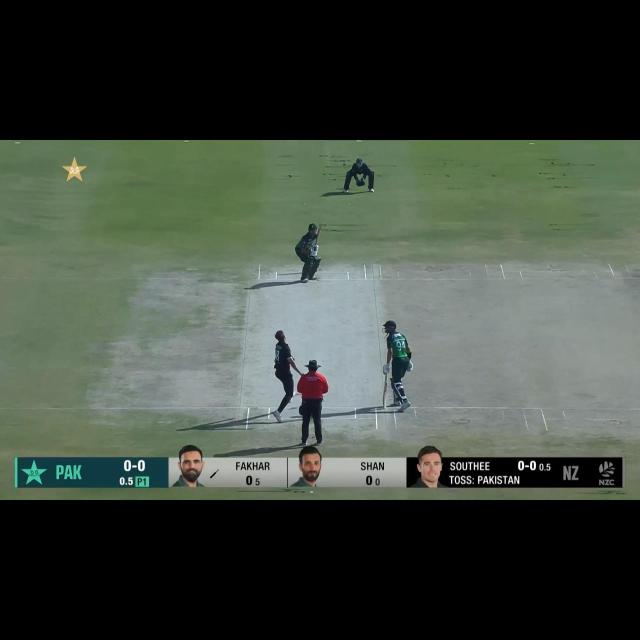bat: (313, 221, 324, 246), (382, 383, 388, 409)
toe: (381, 402, 387, 408), (319, 222, 323, 227)
